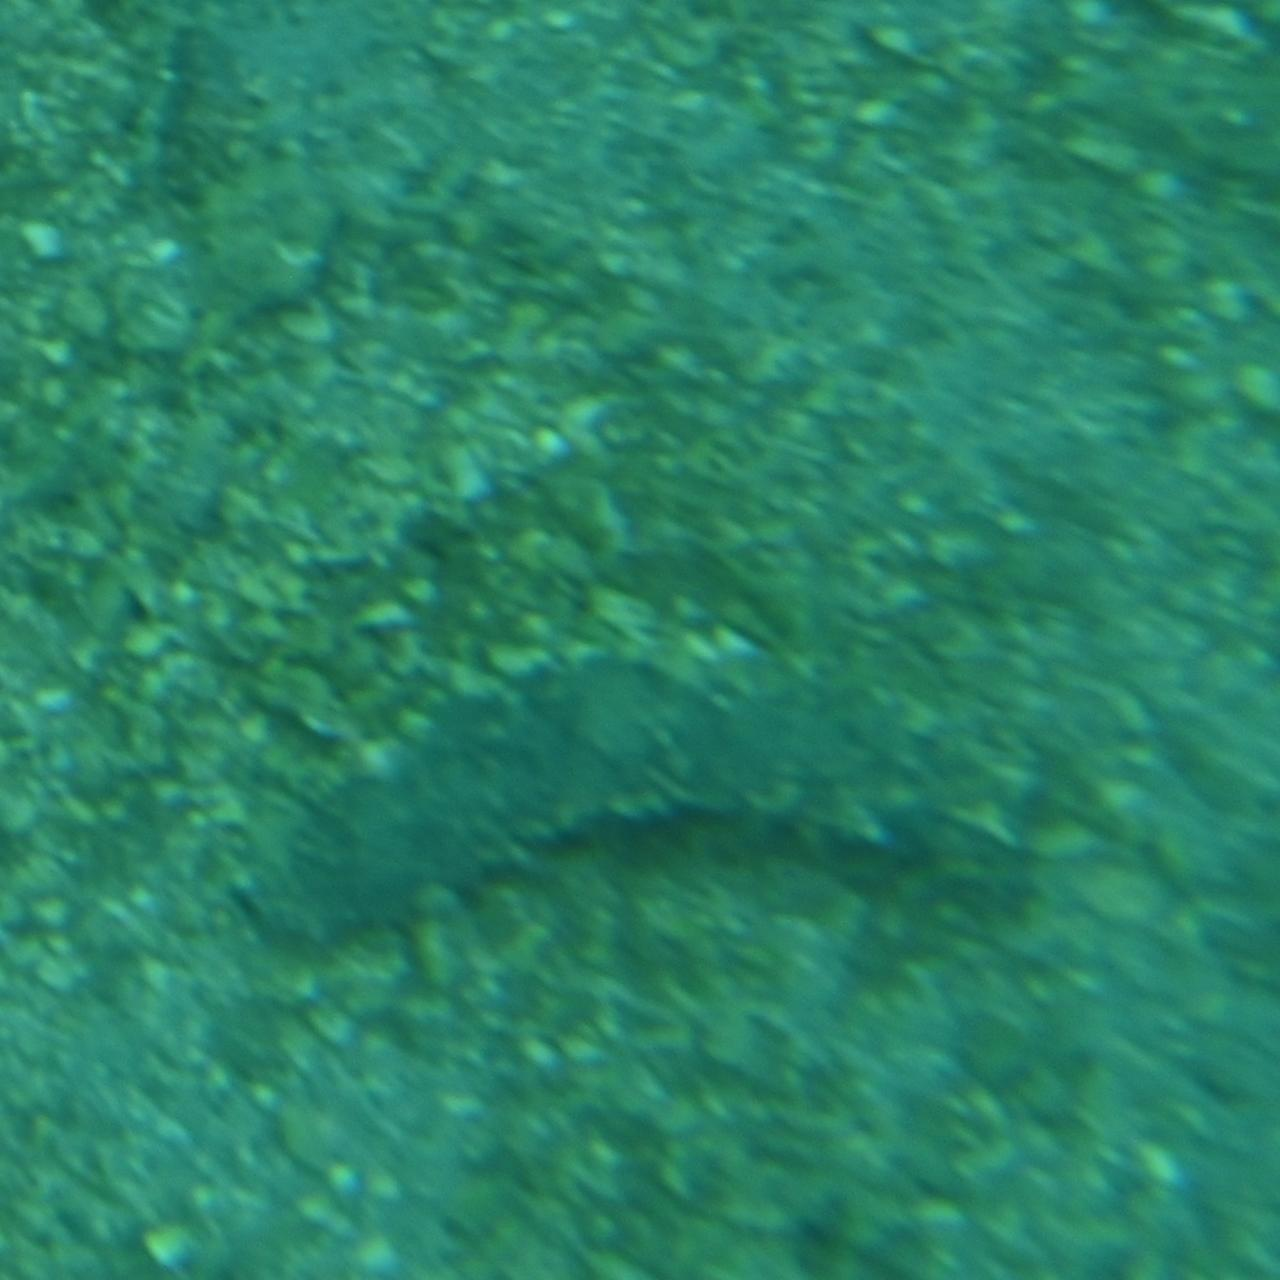Holothuria tubulosa: (229, 612, 1083, 979)
